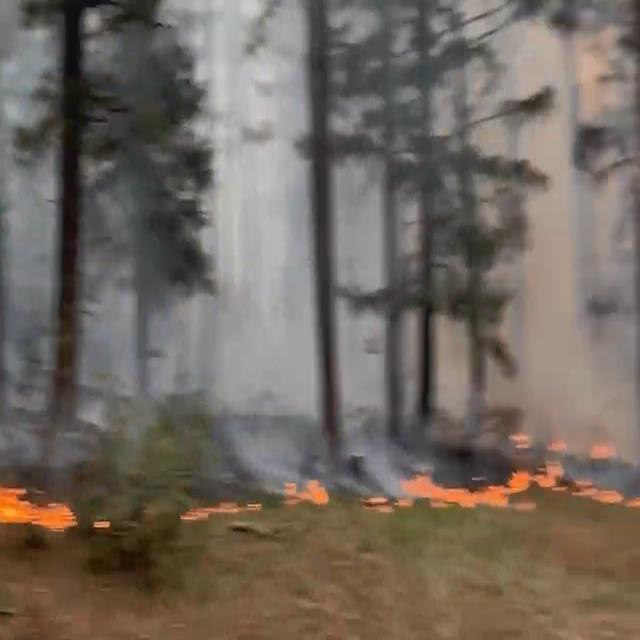Fire: (0, 476, 75, 537)
